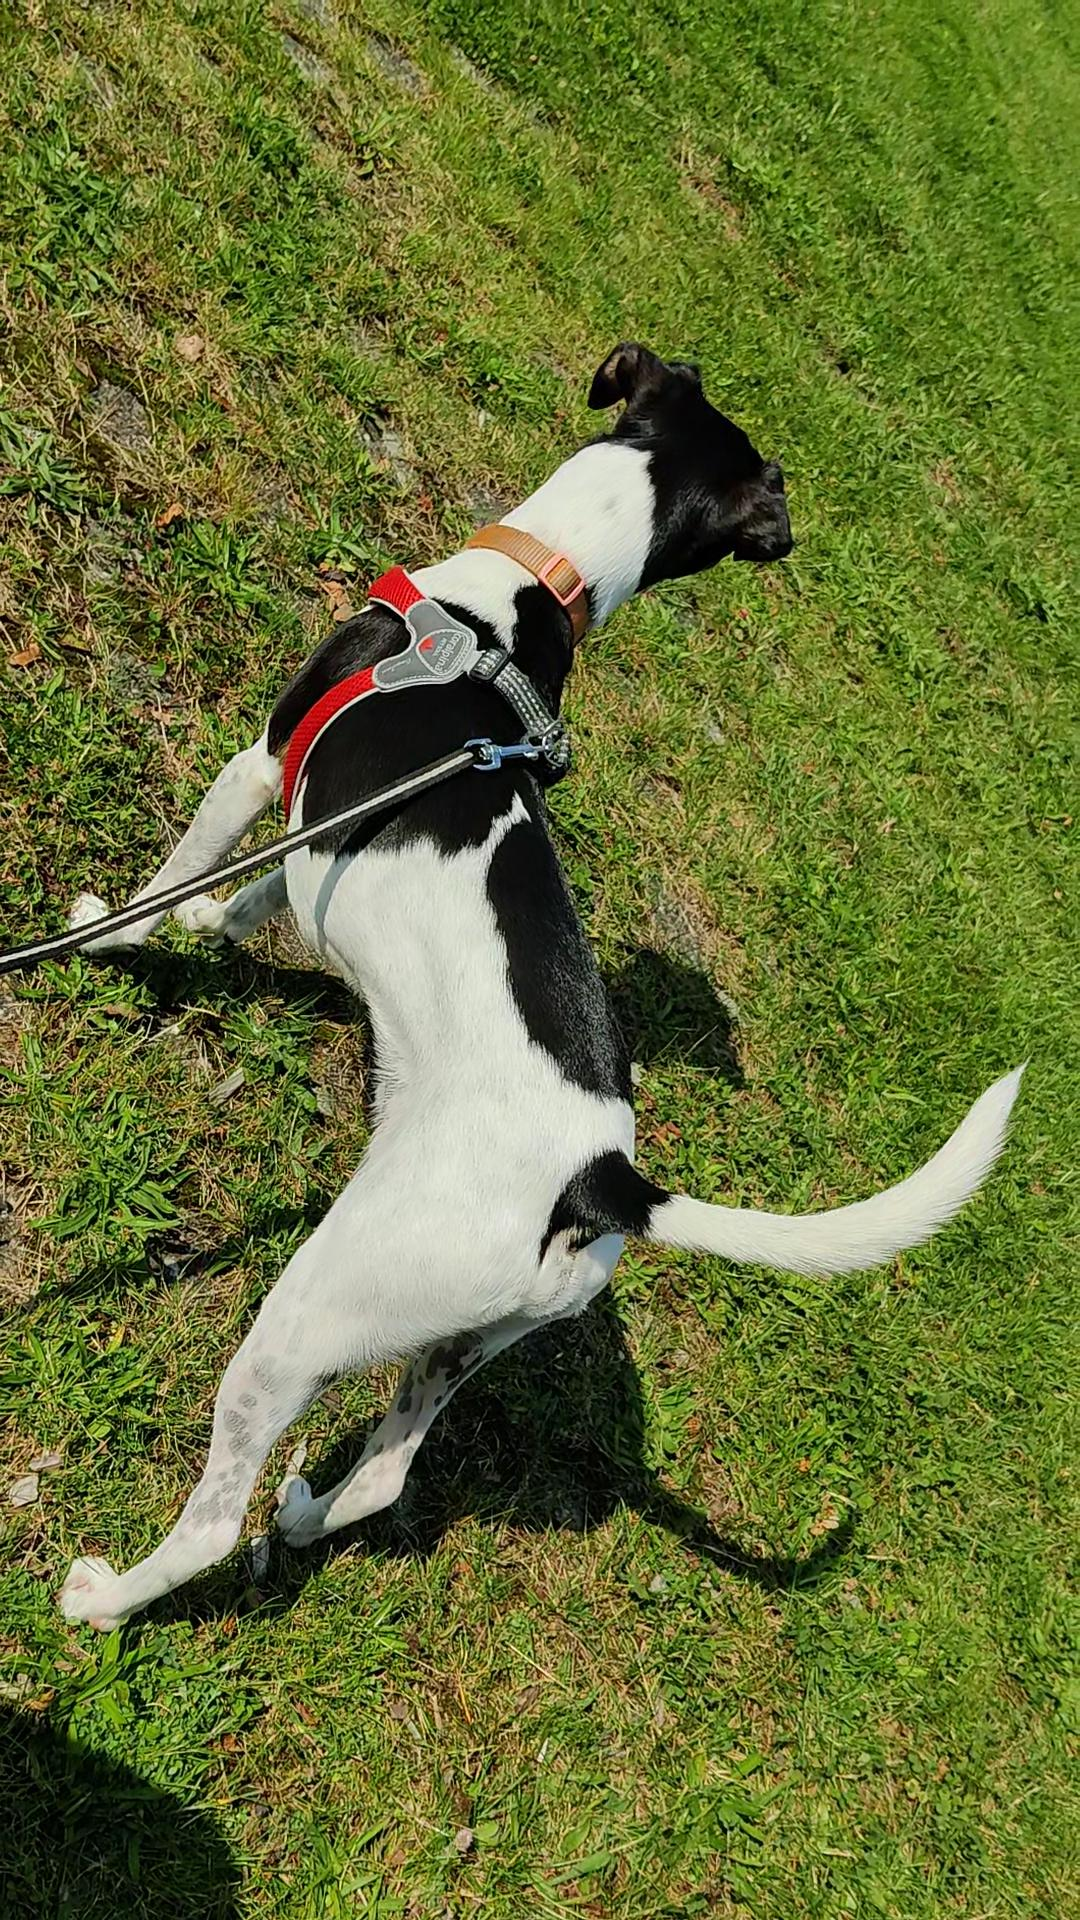Dog: (55, 338, 1025, 1629)
